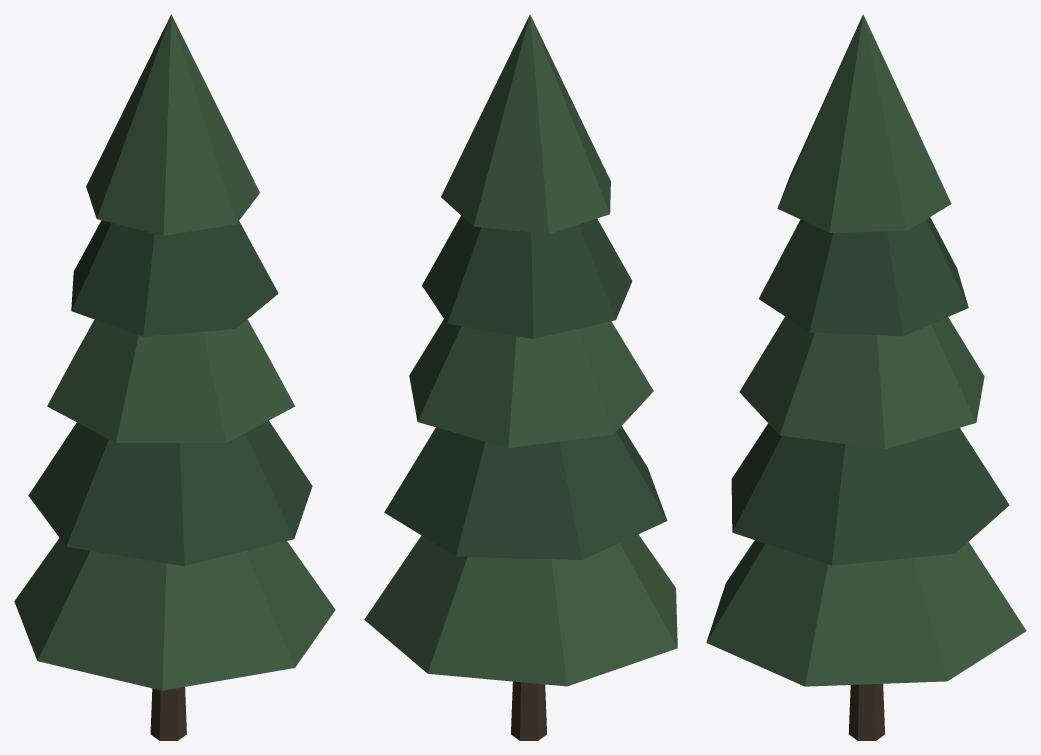
The model's file is spruce_1.glb.
3 views of the same model, side by side, from view 1: azimuth 30°, elevation 25°; view 2: azimuth 150°, elevation 25°; view 3: azimuth 270°, elevation 25° (orthographic).
Parts seen in each view (by area): view 1: spruce_1; view 2: spruce_1; view 3: spruce_1.
Part boxes in pixels (left/top/right/bottom): spruce_1: left=14, top=14, right=335, bottom=740; spruce_1: left=364, top=14, right=677, bottom=740; spruce_1: left=706, top=14, right=1026, bottom=740.
Bounding box in the file's own units: 3.85 × 9.62 × 3.88.
